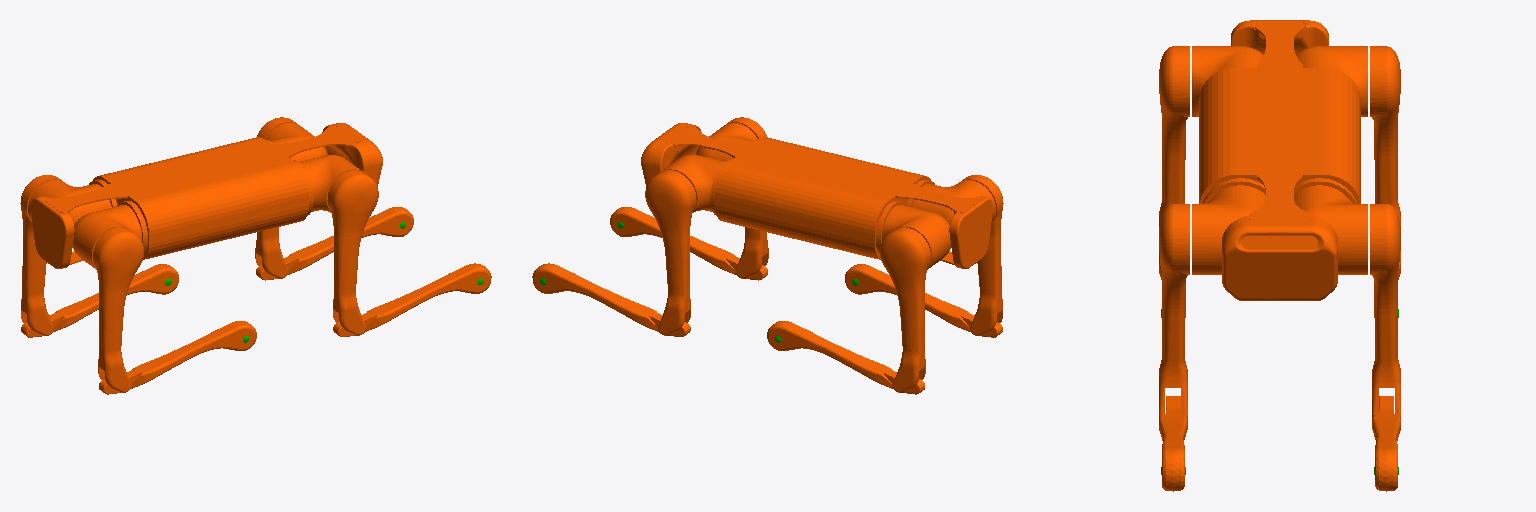
--- What the picture shows (computed from the rendered views, not written in the file) ---
The picture shows the robot from 3 angles, left to right: view 1: azimuth 30°, elevation 25°; view 2: azimuth 150°, elevation 25°; view 3: azimuth 270°, elevation 25°; orthographic projection.
Robot: aliengo — 31 links, 30 joints (8 revolute, 4 continuous, 18 fixed); root link base; default pose: joints at zero except 4 at the middle of their limits (FR_calf_joint = -1.71, FL_calf_joint = -1.71, RR_calf_joint = -1.71, RL_calf_joint = -1.71).
Visible links, largest first — view 1: trunk, RR_thigh, FR_thigh, RL_thigh, FR_calf, RR_calf, RR_hip, FL_calf, RL_calf, FR_hip, FL_thigh, RL_hip (+1 smaller); view 2: trunk, RL_thigh, FL_thigh, RR_thigh, FL_calf, RL_calf, RL_hip, FR_calf, RR_calf, FL_hip, FR_thigh, RR_hip (+1 smaller); view 3: trunk, FR_thigh, FL_thigh, RR_thigh, RL_thigh, FR_hip, FL_hip, FR_calf, FL_calf, RR_hip, RL_hip.
Boxes of the visible links, x1=… form: trunk: x1=31, y1=123, x2=382, y2=268; RR_thigh: x1=93, y1=227, x2=143, y2=392; FR_thigh: x1=327, y1=170, x2=378, y2=335; RL_thigh: x1=20, y1=175, x2=61, y2=335; FR_calf: x1=333, y1=263, x2=491, y2=336; RR_calf: x1=99, y1=321, x2=256, y2=394; RR_hip: x1=73, y1=201, x2=147, y2=269; FL_calf: x1=256, y1=207, x2=413, y2=280; RL_calf: x1=21, y1=264, x2=178, y2=337; FR_hip: x1=293, y1=155, x2=362, y2=215; FL_thigh: x1=255, y1=117, x2=296, y2=278; RL_hip: x1=28, y1=180, x2=117, y2=224; trunk: x1=641, y1=123, x2=992, y2=268; RL_thigh: x1=880, y1=227, x2=930, y2=392; FL_thigh: x1=645, y1=170, x2=696, y2=335; RR_thigh: x1=962, y1=175, x2=1003, y2=335; FL_calf: x1=532, y1=263, x2=690, y2=336; RL_calf: x1=767, y1=321, x2=924, y2=394; RL_hip: x1=876, y1=201, x2=950, y2=269; FR_calf: x1=610, y1=207, x2=767, y2=280; RR_calf: x1=845, y1=264, x2=1002, y2=337; FL_hip: x1=661, y1=155, x2=730, y2=215; FR_thigh: x1=727, y1=117, x2=768, y2=278; RR_hip: x1=906, y1=180, x2=995, y2=224; trunk: x1=1199, y1=20, x2=1360, y2=300; FR_thigh: x1=1159, y1=204, x2=1189, y2=418; FL_thigh: x1=1370, y1=204, x2=1400, y2=418; RR_thigh: x1=1159, y1=46, x2=1189, y2=260; RL_thigh: x1=1370, y1=46, x2=1400, y2=260; FR_hip: x1=1192, y1=178, x2=1265, y2=274; FL_hip: x1=1294, y1=178, x2=1367, y2=274; FR_calf: x1=1159, y1=396, x2=1187, y2=491; FL_calf: x1=1372, y1=396, x2=1400, y2=491; RR_hip: x1=1192, y1=46, x2=1263, y2=116; RL_hip: x1=1296, y1=46, x2=1367, y2=116.
Size in the robot's own frame: 0.8255 by 0.313 by 0.321 metres.
13 mesh visuals loaded from 5 distinct referenced files (5 Collada DAE).

robot.urdf — aliengo:
<?xml version="1.0" ?>
<!-- =================================================================================== -->
<!-- |    This document was autogenerated by xacro from robot.xacro                    | -->
<!-- |    EDITING THIS FILE BY HAND IS NOT RECOMMENDED                                 | -->
<!-- =================================================================================== -->
<robot name="aliengo">
  <material name="black">
    <color rgba="0.0 0.0 0.0 1.0"/>
  </material>
  <material name="blue">
    <color rgba="0.0 0.0 0.8 1.0"/>
  </material>
  <material name="green">
    <color rgba="0.0 0.8 0.0 1.0"/>
  </material>
  <material name="grey">
    <color rgba="0.2 0.2 0.2 1.0"/>
  </material>
  <material name="silver">
    <color rgba="0.9137254901960784 0.9137254901960784 0.8470588235294118 1.0"/>
  </material>
  <material name="orange">
    <color rgba="1.0 0.4235294117647059 0.0392156862745098 1.0"/>
  </material>
  <material name="brown">
    <color rgba="0.8705882352941177 0.8117647058823529 0.7647058823529411 1.0"/>
  </material>
  <material name="red">
    <color rgba="0.8 0.0 0.0 1.0"/>
  </material>
  <material name="white">
    <color rgba="1.0 1.0 1.0 1.0"/>
  </material>
  <!-- ros_control plugin -->
  <gazebo>
    <plugin filename="libgazebo_ros_control.so" name="gazebo_ros_control">
      <robotNamespace>/aliengo_gazebo</robotNamespace>
      <robotSimType>gazebo_ros_control/DefaultRobotHWSim</robotSimType>
    </plugin>
  </gazebo>
  <!-- Show the trajectory of trunk center. -->
  <gazebo>
    <plugin filename="libLinkPlot3DPlugin.so" name="3dplot">
      <frequency>10</frequency>
      <plot>
        <link>base</link>
        <pose>0 0 0 0 0 0</pose>
        <material>Gazebo/Yellow</material>
      </plot>
    </plugin>
  </gazebo>
  <!-- Show the trajectory of foot. You can add another trajectory about another foot. -->
  <!-- <gazebo>
        <plugin name="3dplot" filename="libLinkPlot3DPlugin.so">
            <frequency>100</frequency>
            <plot>
                <link>FL_foot</link>
                <pose>0 0 0 0 0 0</pose>
                <material>Gazebo/Green</material>
            </plot>
        </plugin>
    </gazebo> -->
  <gazebo>
    <plugin filename="libgazebo_ros_force.so" name="gazebo_ros_force">
      <bodyName>trunk</bodyName>
      <topicName>/apply_force/trunk</topicName>
    </plugin>
  </gazebo>
  <gazebo reference="imu_link">
    <gravity>true</gravity>
    <sensor name="imu_sensor" type="imu">
      <always_on>true</always_on>
      <update_rate>1000</update_rate>
      <visualize>true</visualize>
      <topic>__default_topic__</topic>
      <plugin filename="libgazebo_ros_imu_sensor.so" name="imu_plugin">
        <topicName>trunk_imu</topicName>
        <bodyName>imu_link</bodyName>
        <updateRateHZ>1000.0</updateRateHZ>
        <gaussianNoise>0.0</gaussianNoise>
        <xyzOffset>0 0 0</xyzOffset>
        <rpyOffset>0 0 0</rpyOffset>
        <frameName>imu_link</frameName>
      </plugin>
      <pose>0 0 0 0 0 0</pose>
    </sensor>
  </gazebo>
  <!-- Foot contacts. -->
  <gazebo reference="FR_calf">
    <sensor name="FR_foot_contact" type="contact">
      <update_rate>100</update_rate>
      <plugin filename="libunitreeFootContactPlugin.so" name="contactPlugin"/>
      <contact>
        <collision>FR_calf_fixed_joint_lump__FR_foot_collision_1</collision>
      </contact>
    </sensor>
  </gazebo>
  <gazebo reference="FL_calf">
    <sensor name="FL_foot_contact" type="contact">
      <update_rate>100</update_rate>
      <plugin filename="libunitreeFootContactPlugin.so" name="contactPlugin"/>
      <contact>
        <collision>FL_calf_fixed_joint_lump__FL_foot_collision_1</collision>
      </contact>
    </sensor>
  </gazebo>
  <gazebo reference="RR_calf">
    <sensor name="RR_foot_contact" type="contact">
      <update_rate>100</update_rate>
      <plugin filename="libunitreeFootContactPlugin.so" name="contactPlugin"/>
      <contact>
        <collision>RR_calf_fixed_joint_lump__RR_foot_collision_1</collision>
      </contact>
    </sensor>
  </gazebo>
  <gazebo reference="RL_calf">
    <sensor name="RL_foot_contact" type="contact">
      <update_rate>100</update_rate>
      <plugin filename="libunitreeFootContactPlugin.so" name="contactPlugin"/>
      <contact>
        <collision>RL_calf_fixed_joint_lump__RL_foot_collision_1</collision>
      </contact>
    </sensor>
  </gazebo>
  <!-- Visualization of Foot contacts. -->
  <gazebo reference="FR_foot">
    <visual>
      <plugin filename="libunitreeDrawForcePlugin.so" name="drawForcePlugin">
        <topicName>FR_foot_contact</topicName>
      </plugin>
    </visual>
  </gazebo>
  <gazebo reference="FL_foot">
    <visual>
      <plugin filename="libunitreeDrawForcePlugin.so" name="drawForcePlugin">
        <topicName>FL_foot_contact</topicName>
      </plugin>
    </visual>
  </gazebo>
  <gazebo reference="RR_foot">
    <visual>
      <plugin filename="libunitreeDrawForcePlugin.so" name="drawForcePlugin">
        <topicName>RR_foot_contact</topicName>
      </plugin>
    </visual>
  </gazebo>
  <gazebo reference="RL_foot">
    <visual>
      <plugin filename="libunitreeDrawForcePlugin.so" name="drawForcePlugin">
        <topicName>RL_foot_contact</topicName>
      </plugin>
    </visual>
  </gazebo>
  <gazebo reference="base">
    <material>Gazebo/Green</material>
    <turnGravityOff>false</turnGravityOff>
  </gazebo>
  <gazebo reference="trunk">
    <mu1>0.2</mu1>
    <mu2>0.2</mu2>
    <kp value="1000000.0"/>
    <kd value="1.0"/>
  </gazebo>
  <gazebo reference="stick_link">
    <mu1>0.2</mu1>
    <mu2>0.2</mu2>
    <material>Gazebo/White</material>
  </gazebo>
  <gazebo reference="imu_link">
    <mu1>0.2</mu1>
    <mu2>0.2</mu2>
    <material>Gazebo/Red</material>
  </gazebo>
  <!-- FL leg -->
  <gazebo reference="FL_hip">
    <mu1>0.2</mu1>
    <mu2>0.2</mu2>
    <material>Gazebo/DarkGrey</material>
  </gazebo>
  <gazebo reference="FL_thigh">
    <mu1>0.2</mu1>
    <mu2>0.2</mu2>
    <self_collide>1</self_collide>
    <material>Gazebo/DarkGrey</material>
    <kp value="1000000.0"/>
    <kd value="1.0"/>
  </gazebo>
  <gazebo reference="FL_calf">
    <mu1>0.2</mu1>
    <mu2>0.2</mu2>
    <self_collide>1</self_collide>
  </gazebo>
  <gazebo reference="FL_foot">
    <mu1>0.6</mu1>
    <mu2>0.6</mu2>
    <self_collide>1</self_collide>
    <material>Gazebo/DarkGrey</material>
    <kp value="1000000.0"/>
    <kd value="1.0"/>
  </gazebo>
  <!-- FR leg -->
  <gazebo reference="FR_hip">
    <mu1>0.2</mu1>
    <mu2>0.2</mu2>
    <material>Gazebo/DarkGrey</material>
  </gazebo>
  <gazebo reference="FR_thigh">
    <mu1>0.2</mu1>
    <mu2>0.2</mu2>
    <self_collide>1</self_collide>
    <material>Gazebo/DarkGrey</material>
    <kp value="1000000.0"/>
    <kd value="1.0"/>
  </gazebo>
  <gazebo reference="FR_calf">
    <mu1>0.2</mu1>
    <mu2>0.2</mu2>
    <self_collide>1</self_collide>
  </gazebo>
  <gazebo reference="FR_foot">
    <mu1>0.6</mu1>
    <mu2>0.6</mu2>
    <self_collide>1</self_collide>
    <material>Gazebo/DarkGrey</material>
    <kp value="1000000.0"/>
    <kd value="1.0"/>
  </gazebo>
  <!-- RL leg -->
  <gazebo reference="RL_hip">
    <mu1>0.2</mu1>
    <mu2>0.2</mu2>
    <material>Gazebo/DarkGrey</material>
  </gazebo>
  <gazebo reference="RL_thigh">
    <mu1>0.2</mu1>
    <mu2>0.2</mu2>
    <self_collide>1</self_collide>
    <material>Gazebo/DarkGrey</material>
    <kp value="1000000.0"/>
    <kd value="1.0"/>
  </gazebo>
  <gazebo reference="RL_calf">
    <mu1>0.2</mu1>
    <mu2>0.2</mu2>
    <self_collide>1</self_collide>
  </gazebo>
  <gazebo reference="RL_foot">
    <mu1>0.6</mu1>
    <mu2>0.6</mu2>
    <self_collide>1</self_collide>
    <material>Gazebo/DarkGrey</material>
    <kp value="1000000.0"/>
    <kd value="1.0"/>
  </gazebo>
  <!-- RR leg -->
  <gazebo reference="RR_hip">
    <mu1>0.2</mu1>
    <mu2>0.2</mu2>
    <material>Gazebo/DarkGrey</material>
  </gazebo>
  <gazebo reference="RR_thigh">
    <mu1>0.2</mu1>
    <mu2>0.2</mu2>
    <self_collide>1</self_collide>
    <material>Gazebo/DarkGrey</material>
    <kp value="1000000.0"/>
    <kd value="1.0"/>
  </gazebo>
  <gazebo reference="RR_calf">
    <mu1>0.2</mu1>
    <mu2>0.2</mu2>
    <self_collide>1</self_collide>
  </gazebo>
  <gazebo reference="RR_foot">
    <mu1>0.6</mu1>
    <mu2>0.6</mu2>
    <self_collide>1</self_collide>
    <material>Gazebo/DarkGrey</material>
    <kp value="1000000.0"/>
    <kd value="1.0"/>
  </gazebo>
  <!-- Rotor related joint and link is only for demonstrate location. -->
  <!-- Actually, the rotor will rotate and the joint is not fixed. Reduction ratio should be considered. -->
  <!-- Debug mode will hung up the robot, use "true" or "false" to switch it. -->
  <!-- <xacro:if value="$(arg DEBUG)">
        <link name="world"/>
        <joint name="base_static_joint" type="fixed">
            <origin rpy="0 0 0" xyz="0 0 0"/>
            <parent link="world"/>
            <child link="base"/>
        </joint>
    </xacro:if>  -->
  <link name="base">
    <visual>
      <origin rpy="0 0 0" xyz="0 0 0"/>
      <geometry>
        <box size="0.001 0.001 0.001"/>
      </geometry>
    </visual>
  </link>
  <joint name="floating_base" type="fixed">
    <origin rpy="0 0 0" xyz="0 0 0"/>
    <parent link="base"/>
    <child link="trunk"/>
  </joint>
  <link name="trunk">
    <visual>
      <origin rpy="0 0 0" xyz="0 0 0"/>
      <geometry>
        <mesh filename="../meshes/trunk.dae" scale="1 1 1"/>
      </geometry>
      <material name="orange"/>
    </visual>
    <collision>
      <origin rpy="0 0 0" xyz="0 0 0"/>
      <geometry>
        <box size="0.647 0.15 0.112"/>
      </geometry>
    </collision>
    <!-- <collision>
            <origin rpy="0 0 0" xyz="0 0 0"/>
            <geometry>
                <mesh filename="../meshes/trunk.dae" scale="1 1 1"/>
            </geometry>
        </collision> -->
    <inertial>
      <origin rpy="0 0 0" xyz="0.008811 0.003839 0.000273"/>
      <mass value="11.644"/>
      <inertia ixx="0.051944892" ixy="0.001703617" ixz="0.000235941" iyy="0.24693924" iyz="0.000119783" izz="0.270948307"/>
    </inertial>
  </link>
  <joint name="imu_joint" type="fixed">
    <parent link="trunk"/>
    <child link="imu_link"/>
    <origin rpy="0 0 0" xyz="0 0 0"/>
  </joint>
  <link name="imu_link">
    <inertial>
      <mass value="0.001"/>
      <origin rpy="0 0 0" xyz="0 0 0"/>
      <inertia ixx="0.0001" ixy="0" ixz="0" iyy="0.000001" iyz="0" izz="0.0001"/>
    </inertial>
    <visual>
      <origin rpy="0 0 0" xyz="0 0 0"/>
      <geometry>
        <box size="0.001 0.001 0.001"/>
      </geometry>
      <material name="red"/>
    </visual>
    <collision>
      <origin rpy="0 0 0" xyz="0 0 0"/>
      <geometry>
        <box size=".001 .001 .001"/>
      </geometry>
    </collision>
  </link>
  <joint name="FR_hip_joint" type="revolute">
    <origin rpy="0 0 0" xyz="0.2407 -0.051 0"/>
    <parent link="trunk"/>
    <child link="FR_hip"/>
    <axis xyz="1 0 0"/>
    <dynamics damping="0" friction="0"/>
    <limit effort="35.278" lower="-1.2217304763960306" upper="1.2217304763960306" velocity="20"/>
  </joint>
  <joint name="FR_hip_fixed" type="fixed">
    <origin rpy="0 0 0" xyz="0.139985 -0.051 0"/>
    <parent link="trunk"/>
    <child link="FR_hip_rotor"/>
  </joint>
  <link name="FR_hip">
    <visual>
      <origin rpy="3.141592653589793 0 0" xyz="0 0 0"/>
      <geometry>
        <mesh filename="../meshes/hip.dae" scale="1 1 1"/>
      </geometry>
      <material name="orange"/>
    </visual>
    <collision>
      <origin rpy="1.5707963267948966 0 0" xyz="0 -0.083 0"/>
      <geometry>
        <cylinder length="0.0418" radius="0.046"/>
      </geometry>
    </collision>
    <inertial>
      <origin rpy="0 0 0" xyz="-0.022191 -0.015144 -1.5e-05"/>
      <mass value="1.993"/>
      <inertia ixx="0.002446735" ixy="0.00059805" ixz="1.945e-06" iyy="0.003925876" iyz="-1.284e-06" izz="0.004148145"/>
    </inertial>
  </link>
  <link name="FR_hip_rotor">
    <visual>
      <origin rpy="0 1.5707963267948966 0" xyz="0 0 0"/>
      <geometry>
        <cylinder length="0.02" radius="0.035"/>
      </geometry>
      <material name="green"/>
    </visual>
    <collision>
      <origin rpy="0 1.5707963267948966 0" xyz="0 0 0"/>
      <geometry>
        <cylinder length="0.02" radius="0.035"/>
      </geometry>
    </collision>
    <inertial>
      <origin rpy="0 0 0" xyz="0.0 0.0 0.0"/>
      <mass value="0.146"/>
      <inertia ixx="0.000138702" ixy="0.0" ixz="0.0" iyy="8.3352e-05" iyz="0.0" izz="8.3352e-05"/>
    </inertial>
  </link>
  <joint name="FR_thigh_joint" type="continuous">
    <origin rpy="0 0 0" xyz="0 -0.0868 0"/>
    <parent link="FR_hip"/>
    <child link="FR_thigh"/>
    <axis xyz="0 1 0"/>
    <dynamics damping="0" friction="0"/>
    <limit effort="35.278" velocity="20"/>
  </joint>
  <joint name="FR_thigh_fixed" type="fixed">
    <origin rpy="0 0 0" xyz="0.0 -0.0298 0"/>
    <parent link="FR_hip"/>
    <child link="FR_thigh_rotor"/>
  </joint>
  <link name="FR_thigh">
    <visual>
      <origin rpy="0 0 0" xyz="0 0 0"/>
      <geometry>
        <mesh filename="../meshes/thigh_mirror.dae" scale="1 1 1"/>
      </geometry>
      <material name="orange"/>
    </visual>
    <collision>
      <origin rpy="0 1.5707963267948966 0" xyz="0 0 -0.125"/>
      <geometry>
        <box size="0.25 0.0374 0.043"/>
      </geometry>
    </collision>
    <inertial>
      <origin rpy="0 0 0" xyz="-0.005607 0.003877 -0.048199"/>
      <mass value="0.639"/>
      <inertia ixx="0.004173855" ixy="-1.0284e-05" ixz="-0.000318874" iyy="0.004343802" iyz="-0.000109233" izz="0.000340136"/>
    </inertial>
  </link>
  <link name="FR_thigh_rotor">
    <visual>
      <origin rpy="1.5707963267948966 0 0" xyz="0 0 0"/>
      <geometry>
        <cylinder length="0.02" radius="0.035"/>
      </geometry>
      <material name="green"/>
    </visual>
    <collision>
      <origin rpy="1.5707963267948966 0 0" xyz="0 0 0"/>
      <geometry>
        <cylinder length="0.02" radius="0.035"/>
      </geometry>
    </collision>
    <inertial>
      <origin rpy="0 0 0" xyz="0.0 0.0 0.0"/>
      <mass value="0.146"/>
      <inertia ixx="8.3352e-05" ixy="0.0" ixz="0.0" iyy="0.000138702" iyz="0.0" izz="8.3352e-05"/>
    </inertial>
  </link>
  <joint name="FR_calf_joint" type="revolute">
    <origin rpy="0 0 0" xyz="0 0 -0.25"/>
    <parent link="FR_thigh"/>
    <child link="FR_calf"/>
    <axis xyz="0 1 0"/>
    <dynamics damping="0" friction="0"/>
    <limit effort="44.4" lower="-2.775073510670984" upper="-0.6457718232379019" velocity="15.89"/>
  </joint>
  <joint name="FR_calf_fixed" type="fixed">
    <origin rpy="0 0 0" xyz="0.0 0.0997 0"/>
    <parent link="FR_thigh"/>
    <child link="FR_calf_rotor"/>
  </joint>
  <link name="FR_calf">
    <visual>
      <origin rpy="0 0 0" xyz="0 0 0"/>
      <geometry>
        <mesh filename="../meshes/calf.dae" scale="1 1 1"/>
      </geometry>
      <material name="orange"/>
    </visual>
    <collision>
      <origin rpy="0 1.5707963267948966 0" xyz="0 0 -0.125"/>
      <geometry>
        <box size="0.25 0.0208 0.016"/>
      </geometry>
    </collision>
    <inertial>
      <origin rpy="0 0 0" xyz="0.002781 6.3e-05 -0.142518"/>
      <mass value="0.207"/>
      <inertia ixx="0.002129279" ixy="3.9e-08" ixz="5.757e-06" iyy="0.002141463" iyz="-5.16e-07" izz="3.7583e-05"/>
    </inertial>
  </link>
  <link name="FR_calf_rotor">
    <visual>
      <origin rpy="1.5707963267948966 0 0" xyz="0 0 0"/>
      <geometry>
        <cylinder length="0.02" radius="0.035"/>
      </geometry>
      <material name="green"/>
    </visual>
    <collision>
      <origin rpy="1.5707963267948966 0 0" xyz="0 0 0"/>
      <geometry>
        <cylinder length="0.02" radius="0.035"/>
      </geometry>
    </collision>
    <inertial>
      <origin rpy="0 0 0" xyz="0.0 0.0 0.0"/>
      <mass value="0.132"/>
      <inertia ixx="0.000145463" ixy="0.0" ixz="0.0" iyy="0.000133031" iyz="0.0" izz="0.000145463"/>
    </inertial>
  </link>
  <joint name="FR_foot_fixed" type="fixed">
    <origin rpy="0 0 0" xyz="0 0 -0.25"/>
    <parent link="FR_calf"/>
    <child link="FR_foot"/>
  </joint>
  <link name="FR_foot">
    <visual>
      <origin rpy="0 0 0" xyz="0 0 0"/>
      <geometry>
        <sphere radius="0.0165"/>
      </geometry>
      <material name="green"/>
    </visual>
    <collision>
      <origin rpy="0 0 0" xyz="0 0 0"/>
      <geometry>
        <sphere radius="0.0265"/>
      </geometry>
    </collision>
    <inertial>
      <mass value="0.06"/>
      <inertia ixx="1.6853999999999998e-05" ixy="0.0" ixz="0.0" iyy="1.6853999999999998e-05" iyz="0.0" izz="1.6853999999999998e-05"/>
    </inertial>
  </link>
  <transmission name="FR_hip_tran">
    <type>transmission_interface/SimpleTransmission</type>
    <joint name="FR_hip_joint">
      <hardwareInterface>hardware_interface/EffortJointInterface</hardwareInterface>
    </joint>
    <actuator name="FR_hip_motor">
      <hardwareInterface>hardware_interface/EffortJointInterface</hardwareInterface>
      <mechanicalReduction>1</mechanicalReduction>
    </actuator>
  </transmission>
  <transmission name="FR_thigh_tran">
    <type>transmission_interface/SimpleTransmission</type>
    <joint name="FR_thigh_joint">
      <hardwareInterface>hardware_interface/EffortJointInterface</hardwareInterface>
    </joint>
    <actuator name="FR_thigh_motor">
      <hardwareInterface>hardware_interface/EffortJointInterface</hardwareInterface>
      <mechanicalReduction>1</mechanicalReduction>
    </actuator>
  </transmission>
  <transmission name="FR_calf_tran">
    <type>transmission_interface/SimpleTransmission</type>
    <joint name="FR_calf_joint">
      <hardwareInterface>hardware_interface/EffortJointInterface</hardwareInterface>
    </joint>
    <actuator name="FR_calf_motor">
      <hardwareInterface>hardware_interface/EffortJointInterface</hardwareInterface>
      <mechanicalReduction>1</mechanicalReduction>
    </actuator>
  </transmission>
  <joint name="FL_hip_joint" type="revolute">
    <origin rpy="0 0 0" xyz="0.2407 0.051 0"/>
    <parent link="trunk"/>
    <child link="FL_hip"/>
    <axis xyz="1 0 0"/>
    <dynamics damping="0" friction="0"/>
    <limit effort="35.278" lower="-1.2217304763960306" upper="1.2217304763960306" velocity="20"/>
  </joint>
  <joint name="FL_hip_fixed" type="fixed">
    <origin rpy="0 0 0" xyz="0.139985 0.051 0"/>
    <parent link="trunk"/>
    <child link="FL_hip_rotor"/>
  </joint>
  <link name="FL_hip">
    <visual>
      <origin rpy="0 0 0" xyz="0 0 0"/>
      <geometry>
        <mesh filename="../meshes/hip.dae" scale="1 1 1"/>
      </geometry>
      <material name="orange"/>
    </visual>
    <collision>
      <origin rpy="1.5707963267948966 0 0" xyz="0 0.083 0"/>
      <geometry>
        <cylinder length="0.0418" radius="0.046"/>
      </geometry>
    </collision>
    <inertial>
      <origin rpy="0 0 0" xyz="-0.022191 0.015144 -1.5e-05"/>
      <mass value="1.993"/>
      <inertia ixx="0.002446735" ixy="-0.00059805" ixz="1.945e-06" iyy="0.003925876" iyz="1.284e-06" izz="0.004148145"/>
    </inertial>
  </link>
  <link name="FL_hip_rotor">
    <visual>
      <origin rpy="0 1.5707963267948966 0" xyz="0 0 0"/>
      <geometry>
        <cylinder length="0.02" radius="0.035"/>
      </geometry>
      <material name="green"/>
    </visual>
    <collision>
      <origin rpy="0 1.5707963267948966 0" xyz="0 0 0"/>
      <geometry>
        <cylinder length="0.02" radius="0.035"/>
      </geometry>
    </collision>
    <inertial>
      <origin rpy="0 0 0" xyz="0.0 0.0 0.0"/>
      <mass value="0.146"/>
      <inertia ixx="0.000138702" ixy="0.0" ixz="0.0" iyy="8.3352e-05" iyz="0.0" izz="8.3352e-05"/>
    </inertial>
  </link>
  <joint name="FL_thigh_joint" type="continuous">
    <origin rpy="0 0 0" xyz="0 0.0868 0"/>
    <parent link="FL_hip"/>
    <child link="FL_thigh"/>
    <axis xyz="0 1 0"/>
    <dynamics damping="0" friction="0"/>
    <limit effort="35.278" velocity="20"/>
  </joint>
  <joint name="FL_thigh_fixed" type="fixed">
    <origin rpy="0 0 0" xyz="0.0 0.0298 0"/>
    <parent link="FL_hip"/>
    <child link="FL_thigh_rotor"/>
  </joint>
  <link name="FL_thigh">
    <visual>
      <origin rpy="0 0 0" xyz="0 0 0"/>
      <geometry>
        <mesh filename="../meshes/thigh.dae" scale="1 1 1"/>
      </geometry>
      <material name="orange"/>
    </visual>
    <collision>
      <origin rpy="0 1.5707963267948966 0" xyz="0 0 -0.125"/>
      <geometry>
        <box size="0.25 0.0374 0.043"/>
      </geometry>
    </collision>
    <inertial>
      <origin rpy="0 0 0" xyz="-0.005607 -0.003877 -0.048199"/>
      <mass value="0.639"/>
      <inertia ixx="0.004173855" ixy="1.0284e-05" ixz="-0.000318874" iyy="0.004343802" iyz="0.000109233" izz="0.000340136"/>
    </inertial>
  </link>
  <link name="FL_thigh_rotor">
    <visual>
      <origin rpy="1.5707963267948966 0 0" xyz="0 0 0"/>
      <geometry>
        <cylinder length="0.02" radius="0.035"/>
      </geometry>
      <material name="green"/>
    </visual>
    <collision>
      <origin rpy="1.5707963267948966 0 0" xyz="0 0 0"/>
      <geometry>
        <cylinder length="0.02" radius="0.035"/>
      </geometry>
    </collision>
    <inertial>
      <origin rpy="0 0 0" xyz="0.0 0.0 0.0"/>
      <mass value="0.146"/>
      <inertia ixx="8.3352e-05" ixy="0.0" ixz="0.0" iyy="0.000138702" iyz="0.0" izz="8.3352e-05"/>
    </inertial>
  </link>
  <joint name="FL_calf_joint" type="revolute">
    <origin rpy="0 0 0" xyz="0 0 -0.25"/>
    <parent link="FL_thigh"/>
    <child link="FL_calf"/>
    <axis xyz="0 1 0"/>
    <dynamics damping="0" friction="0"/>
    <limit effort="44.4" lower="-2.775073510670984" upper="-0.6457718232379019" velocity="15.89"/>
  </joint>
  <joint name="FL_calf_fixed" type="fixed">
    <origin rpy="0 0 0" xyz="0.0 -0.0997 0"/>
    <parent link="FL_thigh"/>
    <child link="FL_calf_rotor"/>
  </joint>
  <link name="FL_calf">
    <visual>
      <origin rpy="0 0 0" xyz="0 0 0"/>
      <geometry>
        <mesh filename="../meshes/calf.dae" scale="1 1 1"/>
      </geometry>
      <material name="orange"/>
    </visual>
    <collision>
      <origin rpy="0 1.5707963267948966 0" xyz="0 0 -0.125"/>
      <geometry>
        <box size="0.25 0.0208 0.016"/>
      </geometry>
    </collision>
    <inertial>
      <origin rpy="0 0 0" xyz="0.002781 6.3e-05 -0.142518"/>
      <mass value="0.207"/>
      <inertia ixx="0.002129279" ixy="3.9e-08" ixz="5.757e-06" iyy="0.002141463" iyz="-5.16e-07" izz="3.7583e-05"/>
    </inertial>
  </link>
  <link name="FL_calf_rotor">
    <visual>
      <origin rpy="1.5707963267948966 0 0" xyz="0 0 0"/>
      <geometry>
        <cylinder length="0.02" radius="0.035"/>
      </geometry>
      <material name="green"/>
    </visual>
    <collision>
      <origin rpy="1.5707963267948966 0 0" xyz="0 0 0"/>
      <geometry>
        <cylinder length="0.02" radius="0.035"/>
      </geometry>
    </collision>
    <inertial>
      <origin rpy="0 0 0" xyz="0.0 0.0 0.0"/>
      <mass value="0.132"/>
      <inertia ixx="0.000145463" ixy="0.0" ixz="0.0" iyy="0.000133031" iyz="0.0" izz="0.000145463"/>
    </inertial>
  </link>
  <joint name="FL_foot_fixed" type="fixed">
    <origin rpy="0 0 0" xyz="0 0 -0.25"/>
    <parent link="FL_calf"/>
    <child link="FL_foot"/>
  </joint>
  <link name="FL_foot">
    <visual>
      <origin rpy="0 0 0" xyz="0 0 0"/>
      <geometry>
        <sphere radius="0.0165"/>
      </geometry>
      <material name="green"/>
    </visual>
    <collision>
      <origin rpy="0 0 0" xyz="0 0 0"/>
      <geometry>
        <sphere radius="0.0265"/>
      </geometry>
    </collision>
    <inertial>
      <mass value="0.06"/>
      <inertia ixx="1.6853999999999998e-05" ixy="0.0" ixz="0.0" iyy="1.6853999999999998e-05" iyz="0.0" izz="1.6853999999999998e-05"/>
    </inertial>
  </link>
  <transmission name="FL_hip_tran">
    <type>transmission_interface/SimpleTransmission</type>
    <joint name="FL_hip_joint">
      <hardwareInterface>hardware_interface/EffortJointInterface</hardwareInterface>
    </joint>
    <actuator name="FL_hip_motor">
      <hardwareInterface>hardware_interface/EffortJointInterface</hardwareInterface>
      <mechanicalReduction>1</mechanicalReduction>
    </actuator>
  </transmission>
  <transmission name="FL_thigh_tran">
    <type>transmission_interface/SimpleTransmission</type>
    <joint name="FL_thigh_joint">
      <hardwareInterface>hardware_interface/EffortJointInterface</hardwareInterface>
    </joint>
    <actuator name="FL_thigh_motor">
      <hardwareInterface>hardware_interface/EffortJointInterface</hardwareInterface>
      <mechanicalReduction>1</mechanicalReduction>
    </actuator>
  </transmission>
  <transmission name="FL_calf_tran">
    <type>transmission_interface/SimpleTransmission</type>
    <joint name="FL_calf_joint">
      <hardwareInterface>hardware_interface/EffortJointInterface</hardwareInterface>
    </joint>
    <actuator name="FL_calf_motor">
      <hardwareInterface>hardware_interface/EffortJointInterface</hardwareInterface>
      <mechanicalReduction>1</mechanicalReduction>
    </actuator>
  </transmission>
  <joint name="RR_hip_joint" type="revolute">
    <origin rpy="0 0 0" xyz="-0.2407 -0.051 0"/>
    <parent link="trunk"/>
    <child link="RR_hip"/>
    <axis xyz="1 0 0"/>
    <dynamics damping="0" friction="0"/>
    <limit effort="35.278" lower="-1.2217304763960306" upper="1.2217304763960306" velocity="20"/>
  </joint>
  <joint name="RR_hip_fixed" type="fixed">
    <origin rpy="0 0 0" xyz="-0.139985 -0.051 0"/>
    <parent link="trunk"/>
    <child link="RR_hip_rotor"/>
  </joint>
  <link name="RR_hip">
    <visual>
      <origin rpy="3.141592653589793 3.141592653589793 0" xyz="0 0 0"/>
      <geometry>
        <mesh filename="../meshes/hip.dae" scale="1 1 1"/>
      </geometry>
      <material name="orange"/>
    </visual>
    <collision>
      <origin rpy="1.5707963267948966 0 0" xyz="0 -0.083 0"/>
      <geometry>
        <cylinder length="0.0418" radius="0.046"/>
      </geometry>
    </collision>
    <inertial>
      <origin rpy="0 0 0" xyz="0.022191 -0.015144 -1.5e-05"/>
      <mass value="1.993"/>
      <inertia ixx="0.002446735" ixy="-0.00059805" ixz="-1.945e-06" iyy="0.003925876" iyz="-1.284e-06" izz="0.004148145"/>
    </inertial>
  </link>
  <link name="RR_hip_rotor">
    <visual>
      <origin rpy="0 1.5707963267948966 0" xyz="0 0 0"/>
      <geometry>
        <cylinder length="0.02" radius="0.035"/>
      </geometry>
      <material name="green"/>
    </visual>
    <collision>
      <origin rpy="0 1.5707963267948966 0" xyz="0 0 0"/>
      <geometry>
        <cylinder length="0.02" radius="0.035"/>
      </geometry>
    </collision>
    <inertial>
      <origin rpy="0 0 0" xyz="0.0 0.0 0.0"/>
      <mass value="0.146"/>
      <inertia ixx="0.000138702" ixy="0.0" ixz="0.0" iyy="8.3352e-05" iyz="0.0" izz="8.3352e-05"/>
    </inertial>
  </link>
  <joint name="RR_thigh_joint" type="continuous">
    <origin rpy="0 0 0" xyz="0 -0.0868 0"/>
    <parent link="RR_hip"/>
    <child link="RR_thigh"/>
    <axis xyz="0 1 0"/>
    <dynamics damping="0" friction="0"/>
    <limit effort="35.278" velocity="20"/>
  </joint>
  <joint name="RR_thigh_fixed" type="fixed">
    <origin rpy="0 0 0" xyz="0.0 -0.0298 0"/>
    <parent link="RR_hip"/>
    <child link="RR_thigh_rotor"/>
  </joint>
  <link name="RR_thigh">
    <visual>
      <origin rpy="0 0 0" xyz="0 0 0"/>
      <geometry>
        <mesh filename="../meshes/thigh_mirror.dae" scale="1 1 1"/>
      </geometry>
      <material name="orange"/>
    </visual>
    <collision>
      <origin rpy="0 1.5707963267948966 0" xyz="0 0 -0.125"/>
      <geometry>
        <box size="0.25 0.0374 0.043"/>
      </geometry>
    </collision>
    <inertial>
      <origin rpy="0 0 0" xyz="-0.005607 0.003877 -0.048199"/>
      <mass value="0.639"/>
      <inertia ixx="0.004173855" ixy="-1.0284e-05" ixz="-0.000318874" iyy="0.004343802" iyz="-0.000109233" izz="0.000340136"/>
    </inertial>
  </link>
  <link name="RR_thigh_rotor">
    <visual>
      <origin rpy="1.5707963267948966 0 0" xyz="0 0 0"/>
      <geometry>
        <cylinder length="0.02" radius="0.035"/>
      </geometry>
      <material name="green"/>
    </visual>
    <collision>
      <origin rpy="1.5707963267948966 0 0" xyz="0 0 0"/>
      <geometry>
        <cylinder length="0.02" radius="0.035"/>
      </geometry>
    </collision>
    <inertial>
      <origin rpy="0 0 0" xyz="0.0 0.0 0.0"/>
      <mass value="0.146"/>
      <inertia ixx="8.3352e-05" ixy="0.0" ixz="0.0" iyy="0.000138702" iyz="0.0" izz="8.3352e-05"/>
    </inertial>
  </link>
  <joint name="RR_calf_joint" type="revolute">
    <origin rpy="0 0 0" xyz="0 0 -0.25"/>
    <parent link="RR_thigh"/>
    <child link="RR_calf"/>
    <axis xyz="0 1 0"/>
    <dynamics damping="0" friction="0"/>
    <limit effort="44.4" lower="-2.775073510670984" upper="-0.6457718232379019" velocity="15.89"/>
  </joint>
  <joint name="RR_calf_fixed" type="fixed">
    <origin rpy="0 0 0" xyz="0.0 0.0997 0"/>
    <parent link="RR_thigh"/>
    <child link="RR_calf_rotor"/>
  </joint>
  <link name="RR_calf">
    <visual>
      <origin rpy="0 0 0" xyz="0 0 0"/>
      <geometry>
        <mesh filename="../meshes/calf.dae" scale="1 1 1"/>
      </geometry>
      <material name="orange"/>
    </visual>
    <collision>
      <origin rpy="0 1.5707963267948966 0" xyz="0 0 -0.125"/>
      <geometry>
        <box size="0.25 0.0208 0.016"/>
      </geometry>
    </collision>
    <inertial>
      <origin rpy="0 0 0" xyz="0.002781 6.3e-05 -0.142518"/>
      <mass value="0.207"/>
      <inertia ixx="0.002129279" ixy="3.9e-08" ixz="5.757e-06" iyy="0.002141463" iyz="-5.16e-07" izz="3.7583e-05"/>
    </inertial>
  </link>
  <link name="RR_calf_rotor">
    <visual>
      <origin rpy="1.5707963267948966 0 0" xyz="0 0 0"/>
      <geometry>
        <cylinder length="0.02" radius="0.035"/>
      </geometry>
      <material name="green"/>
    </visual>
    <collision>
      <origin rpy="1.5707963267948966 0 0" xyz="0 0 0"/>
      <geometry>
        <cylinder length="0.02" radius="0.035"/>
      </geometry>
    </collision>
    <inertial>
      <origin rpy="0 0 0" xyz="0.0 0.0 0.0"/>
      <mass value="0.132"/>
      <inertia ixx="0.000145463" ixy="0.0" ixz="0.0" iyy="0.000133031" iyz="0.0" izz="0.000145463"/>
    </inertial>
  </link>
  <joint name="RR_foot_fixed" type="fixed">
    <origin rpy="0 0 0" xyz="0 0 -0.25"/>
    <parent link="RR_calf"/>
    <child link="RR_foot"/>
  </joint>
  <link name="RR_foot">
    <visual>
      <origin rpy="0 0 0" xyz="0 0 0"/>
      <geometry>
        <sphere radius="0.0165"/>
      </geometry>
      <material name="green"/>
    </visual>
    <collision>
      <origin rpy="0 0 0" xyz="0 0 0"/>
      <geometry>
        <sphere radius="0.0265"/>
      </geometry>
    </collision>
    <inertial>
      <mass value="0.06"/>
      <inertia ixx="1.6853999999999998e-05" ixy="0.0" ixz="0.0" iyy="1.6853999999999998e-05" iyz="0.0" izz="1.6853999999999998e-05"/>
    </inertial>
  </link>
  <transmission name="RR_hip_tran">
    <type>transmission_interface/SimpleTransmission</type>
    <joint name="RR_hip_joint">
      <hardwareInterface>hardware_interface/EffortJointInterface</hardwareInterface>
    </joint>
    <actuator name="RR_hip_motor">
      <hardwareInterface>hardware_interface/EffortJointInterface</hardwareInterface>
      <mechanicalReduction>1</mechanicalReduction>
    </actuator>
  </transmission>
  <transmission name="RR_thigh_tran">
    <type>transmission_interface/SimpleTransmission</type>
    <joint name="RR_thigh_joint">
      <hardwareInterface>hardware_interface/EffortJointInterface</hardwareInterface>
    </joint>
    <actuator name="RR_thigh_motor">
      <hardwareInterface>hardware_interface/EffortJointInterface</hardwareInterface>
      <mechanicalReduction>1</mechanicalReduction>
    </actuator>
  </transmission>
  <transmission name="RR_calf_tran">
    <type>transmission_interface/SimpleTransmission</type>
    <joint name="RR_calf_joint">
      <hardwareInterface>hardware_interface/EffortJointInterface</hardwareInterface>
    </joint>
    <actuator name="RR_calf_motor">
      <hardwareInterface>hardware_interface/EffortJointInterface</hardwareInterface>
      <mechanicalReduction>1</mechanicalReduction>
    </actuator>
  </transmission>
  <joint name="RL_hip_joint" type="revolute">
    <origin rpy="0 0 0" xyz="-0.2407 0.051 0"/>
    <parent link="trunk"/>
    <child link="RL_hip"/>
    <axis xyz="1 0 0"/>
    <dynamics damping="0" friction="0"/>
    <limit effort="35.278" lower="-1.2217304763960306" upper="1.2217304763960306" velocity="20"/>
  </joint>
  <joint name="RL_hip_fixed" type="fixed">
    <origin rpy="0 0 0" xyz="-0.139985 0.051 0"/>
    <parent link="trunk"/>
    <child link="RL_hip_rotor"/>
  </joint>
  <link name="RL_hip">
    <visual>
      <origin rpy="0 3.141592653589793 0" xyz="0 0 0"/>
      <geometry>
        <mesh filename="../meshes/hip.dae" scale="1 1 1"/>
      </geometry>
      <material name="orange"/>
    </visual>
    <collision>
      <origin rpy="1.5707963267948966 0 0" xyz="0 0.083 0"/>
      <geometry>
        <cylinder length="0.0418" radius="0.046"/>
      </geometry>
    </collision>
    <inertial>
      <origin rpy="0 0 0" xyz="0.022191 0.015144 -1.5e-05"/>
      <mass value="1.993"/>
      <inertia ixx="0.002446735" ixy="0.00059805" ixz="-1.945e-06" iyy="0.003925876" iyz="1.284e-06" izz="0.004148145"/>
    </inertial>
  </link>
  <link name="RL_hip_rotor">
    <visual>
      <origin rpy="0 1.5707963267948966 0" xyz="0 0 0"/>
      <geometry>
        <cylinder length="0.02" radius="0.035"/>
      </geometry>
      <material name="green"/>
    </visual>
    <collision>
      <origin rpy="0 1.5707963267948966 0" xyz="0 0 0"/>
      <geometry>
        <cylinder length="0.02" radius="0.035"/>
      </geometry>
    </collision>
    <inertial>
      <origin rpy="0 0 0" xyz="0.0 0.0 0.0"/>
      <mass value="0.146"/>
      <inertia ixx="0.000138702" ixy="0.0" ixz="0.0" iyy="8.3352e-05" iyz="0.0" izz="8.3352e-05"/>
    </inertial>
  </link>
  <joint name="RL_thigh_joint" type="continuous">
    <origin rpy="0 0 0" xyz="0 0.0868 0"/>
    <parent link="RL_hip"/>
    <child link="RL_thigh"/>
    <axis xyz="0 1 0"/>
    <dynamics damping="0" friction="0"/>
    <limit effort="35.278" velocity="20"/>
  </joint>
  <joint name="RL_thigh_fixed" type="fixed">
    <origin rpy="0 0 0" xyz="0.0 0.0298 0"/>
    <parent link="RL_hip"/>
    <child link="RL_thigh_rotor"/>
  </joint>
  <link name="RL_thigh">
    <visual>
      <origin rpy="0 0 0" xyz="0 0 0"/>
      <geometry>
        <mesh filename="../meshes/thigh.dae" scale="1 1 1"/>
      </geometry>
      <material name="orange"/>
    </visual>
    <collision>
      <origin rpy="0 1.5707963267948966 0" xyz="0 0 -0.125"/>
      <geometry>
        <box size="0.25 0.0374 0.043"/>
      </geometry>
    </collision>
    <inertial>
      <origin rpy="0 0 0" xyz="-0.005607 -0.003877 -0.048199"/>
      <mass value="0.639"/>
      <inertia ixx="0.004173855" ixy="1.0284e-05" ixz="-0.000318874" iyy="0.004343802" iyz="0.000109233" izz="0.000340136"/>
    </inertial>
  </link>
  <link name="RL_thigh_rotor">
    <visual>
      <origin rpy="1.5707963267948966 0 0" xyz="0 0 0"/>
      <geometry>
        <cylinder length="0.02" radius="0.035"/>
      </geometry>
      <material name="green"/>
    </visual>
    <collision>
      <origin rpy="1.5707963267948966 0 0" xyz="0 0 0"/>
      <geometry>
        <cylinder length="0.02" radius="0.035"/>
      </geometry>
    </collision>
    <inertial>
      <origin rpy="0 0 0" xyz="0.0 0.0 0.0"/>
      <mass value="0.146"/>
      <inertia ixx="8.3352e-05" ixy="0.0" ixz="0.0" iyy="0.000138702" iyz="0.0" izz="8.3352e-05"/>
    </inertial>
  </link>
  <joint name="RL_calf_joint" type="revolute">
    <origin rpy="0 0 0" xyz="0 0 -0.25"/>
    <parent link="RL_thigh"/>
    <child link="RL_calf"/>
    <axis xyz="0 1 0"/>
    <dynamics damping="0" friction="0"/>
    <limit effort="44.4" lower="-2.775073510670984" upper="-0.6457718232379019" velocity="15.89"/>
  </joint>
  <joint name="RL_calf_fixed" type="fixed">
    <origin rpy="0 0 0" xyz="0.0 -0.0997 0"/>
    <parent link="RL_thigh"/>
    <child link="RL_calf_rotor"/>
  </joint>
  <link name="RL_calf">
    <visual>
      <origin rpy="0 0 0" xyz="0 0 0"/>
      <geometry>
        <mesh filename="../meshes/calf.dae" scale="1 1 1"/>
      </geometry>
      <material name="orange"/>
    </visual>
    <collision>
      <origin rpy="0 1.5707963267948966 0" xyz="0 0 -0.125"/>
      <geometry>
        <box size="0.25 0.0208 0.016"/>
      </geometry>
    </collision>
    <inertial>
      <origin rpy="0 0 0" xyz="0.002781 6.3e-05 -0.142518"/>
      <mass value="0.207"/>
      <inertia ixx="0.002129279" ixy="3.9e-08" ixz="5.757e-06" iyy="0.002141463" iyz="-5.16e-07" izz="3.7583e-05"/>
    </inertial>
  </link>
  <link name="RL_calf_rotor">
    <visual>
      <origin rpy="1.5707963267948966 0 0" xyz="0 0 0"/>
      <geometry>
        <cylinder length="0.02" radius="0.035"/>
      </geometry>
      <material name="green"/>
    </visual>
    <collision>
      <origin rpy="1.5707963267948966 0 0" xyz="0 0 0"/>
      <geometry>
        <cylinder length="0.02" radius="0.035"/>
      </geometry>
    </collision>
    <inertial>
      <origin rpy="0 0 0" xyz="0.0 0.0 0.0"/>
      <mass value="0.132"/>
      <inertia ixx="0.000145463" ixy="0.0" ixz="0.0" iyy="0.000133031" iyz="0.0" izz="0.000145463"/>
    </inertial>
  </link>
  <joint name="RL_foot_fixed" type="fixed">
    <origin rpy="0 0 0" xyz="0 0 -0.25"/>
    <parent link="RL_calf"/>
    <child link="RL_foot"/>
  </joint>
  <link name="RL_foot">
    <visual>
      <origin rpy="0 0 0" xyz="0 0 0"/>
      <geometry>
        <sphere radius="0.0165"/>
      </geometry>
      <material name="green"/>
    </visual>
    <collision>
      <origin rpy="0 0 0" xyz="0 0 0"/>
      <geometry>
        <sphere radius="0.0265"/>
      </geometry>
    </collision>
    <inertial>
      <mass value="0.06"/>
      <inertia ixx="1.6853999999999998e-05" ixy="0.0" ixz="0.0" iyy="1.6853999999999998e-05" iyz="0.0" izz="1.6853999999999998e-05"/>
    </inertial>
  </link>
  <transmission name="RL_hip_tran">
    <type>transmission_interface/SimpleTransmission</type>
    <joint name="RL_hip_joint">
      <hardwareInterface>hardware_interface/EffortJointInterface</hardwareInterface>
    </joint>
    <actuator name="RL_hip_motor">
      <hardwareInterface>hardware_interface/EffortJointInterface</hardwareInterface>
      <mechanicalReduction>1</mechanicalReduction>
    </actuator>
  </transmission>
  <transmission name="RL_thigh_tran">
    <type>transmission_interface/SimpleTransmission</type>
    <joint name="RL_thigh_joint">
      <hardwareInterface>hardware_interface/EffortJointInterface</hardwareInterface>
    </joint>
    <actuator name="RL_thigh_motor">
      <hardwareInterface>hardware_interface/EffortJointInterface</hardwareInterface>
      <mechanicalReduction>1</mechanicalReduction>
    </actuator>
  </transmission>
  <transmission name="RL_calf_tran">
    <type>transmission_interface/SimpleTransmission</type>
    <joint name="RL_calf_joint">
      <hardwareInterface>hardware_interface/EffortJointInterface</hardwareInterface>
    </joint>
    <actuator name="RL_calf_motor">
      <hardwareInterface>hardware_interface/EffortJointInterface</hardwareInterface>
      <mechanicalReduction>1</mechanicalReduction>
    </actuator>
  </transmission>
  <!-- <xacro:stairs stairs="15" xpos="0" ypos="2.0" zpos="0" /> -->
</robot>
